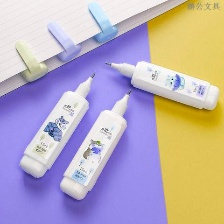correction_fluid: (17, 69, 97, 182), (57, 86, 133, 203), (101, 57, 221, 115)
